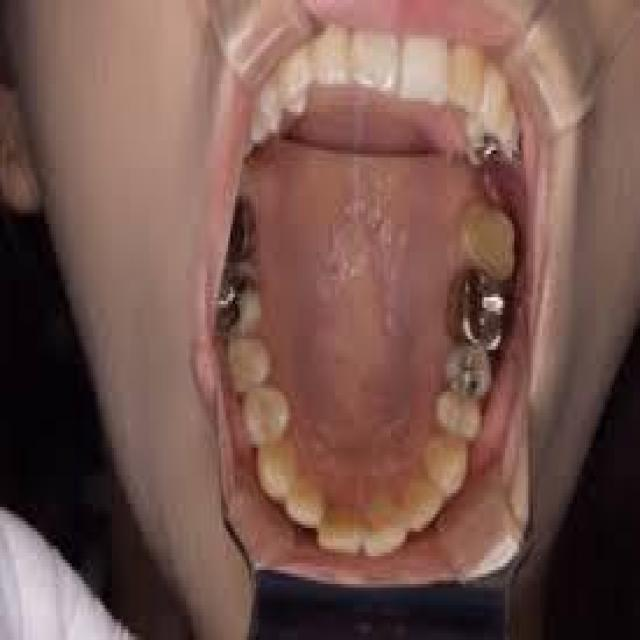Tooth: (461, 199, 517, 283), (400, 35, 449, 105), (354, 28, 400, 94), (310, 24, 354, 91), (445, 343, 493, 399), (244, 385, 289, 444), (426, 437, 468, 500), (277, 38, 314, 105), (258, 441, 300, 500), (363, 500, 407, 556), (449, 42, 484, 112), (438, 388, 484, 441), (228, 336, 270, 392), (286, 476, 328, 528), (319, 504, 363, 553), (405, 479, 445, 532)
